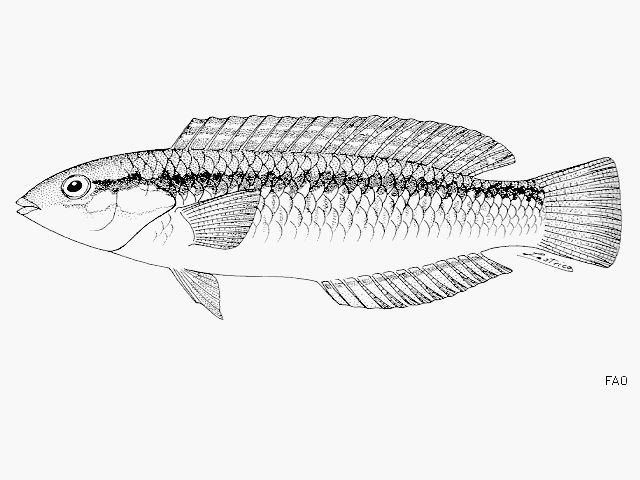fish: (16, 115, 623, 321)
